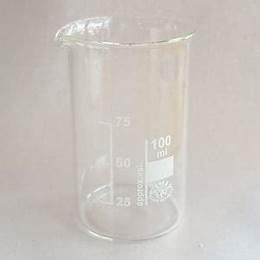Beaker: (56, 14, 195, 242)
